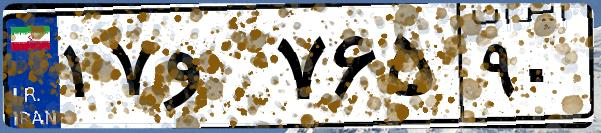0: (525, 38, 570, 115)
1: (57, 26, 110, 100)
5: (385, 28, 445, 110)
6: (330, 28, 385, 110)
7: (270, 28, 330, 110), (110, 28, 158, 98)
9: (475, 38, 525, 113)
و: (158, 20, 270, 120)
